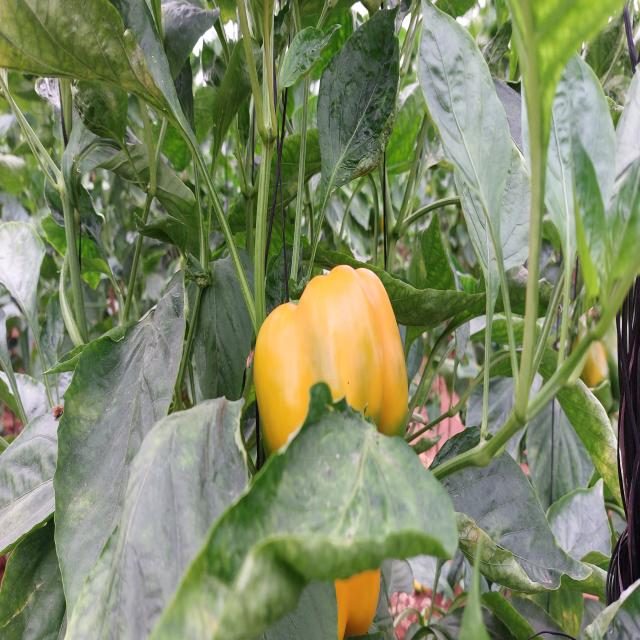Yellow-Ready-to-Harvest: (252, 264, 415, 451)
